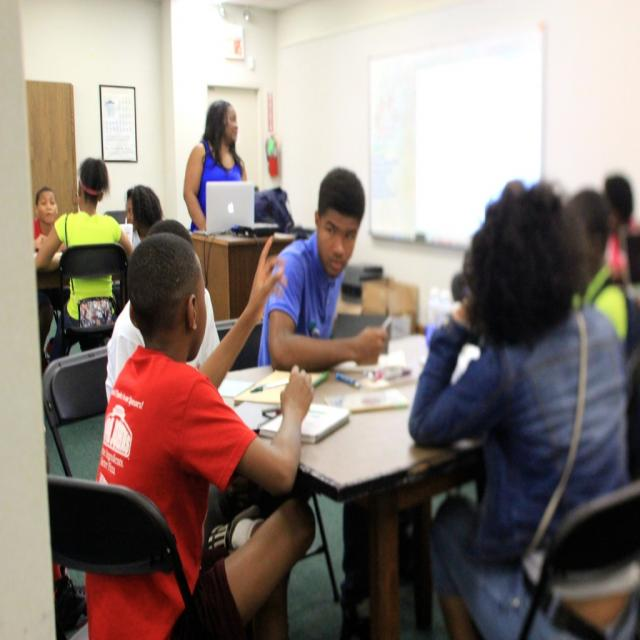chair: (48, 475, 200, 634), (520, 479, 640, 635), (42, 345, 109, 480), (56, 243, 129, 355), (386, 280, 419, 336)
desk: (190, 220, 304, 320)
laptop: (204, 181, 256, 232)
person: (407, 178, 632, 632), (96, 228, 316, 630), (261, 166, 388, 375), (35, 155, 132, 300), (563, 188, 630, 352), (183, 98, 248, 232), (603, 174, 640, 286), (125, 184, 164, 248), (32, 185, 58, 248)
